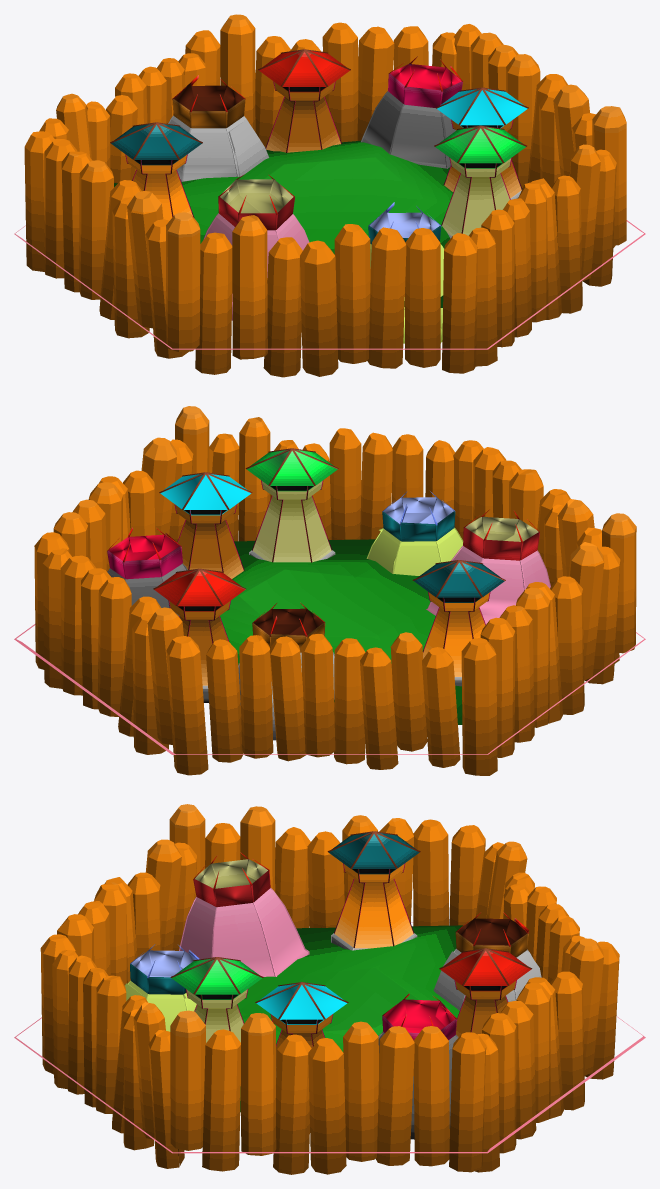
Rendered from Village.fbx.
3 views of the same model, one above another, from view 1: azimuth 30°, elevation 25°; view 2: azimuth 150°, elevation 25°; view 3: azimuth 270°, elevation 25° (orthographic).
Parts seen in each view (by area): view 1: Wall, Ground, Hexagon.002, Hexagon.003, Hexagon.005, Hexagon.007, Hexagon.004, Hexagon.001, Hexagon.006, Hexagon.008; view 2: Wall, Ground, Hexagon.007, Hexagon.006, Hexagon.001, Hexagon.008, Hexagon.004, Hexagon.005, Hexagon.002, Hexagon.003; view 3: Wall, Ground, Hexagon.001, Hexagon.004, Hexagon.005, Hexagon.007, Hexagon.003, Hexagon.006, Hexagon.008, Hexagon.002.
Part boxes in pixels (x1,y1,x2,y2): Wall: (24,14,626,377); Ground: (14,140,645,349); Hexagon.002: (361,56,462,168); Hexagon.003: (168,75,269,181); Hexagon.005: (258,49,350,152); Hexagon.007: (434,125,526,238); Hexagon.004: (110,122,202,220); Hexagon.001: (203,174,309,320); Hexagon.006: (436,87,528,199); Hexagon.008: (368,202,444,343); Wall: (34,406,636,775); Ground: (14,539,645,754); Hexagon.007: (245,448,338,562); Hexagon.006: (159,472,252,578); Hexagon.001: (426,509,550,624); Hexagon.008: (366,491,463,575); Hexagon.004: (412,560,505,686); Hexagon.005: (153,568,245,702); Hexagon.002: (107,527,187,616); Hexagon.003: (238,602,334,740); Wall: (40,804,619,1174); Ground: (14,922,645,1153); Hexagon.001: (179,852,309,976); Hexagon.004: (327,831,420,950); Hexagon.005: (439,948,532,1037); Hexagon.007: (170,957,263,1042); Hexagon.003: (433,912,541,1010); Hexagon.006: (255,982,348,1077); Hexagon.008: (125,944,199,1031); Hexagon.002: (378,993,458,1139).
Size of the model in its own units: 162 by 55.29 by 187.
